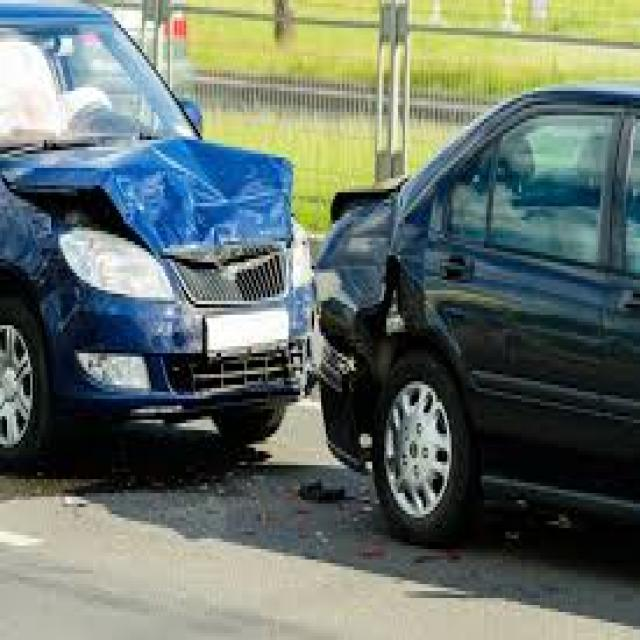accident: (49, 90, 481, 522)
